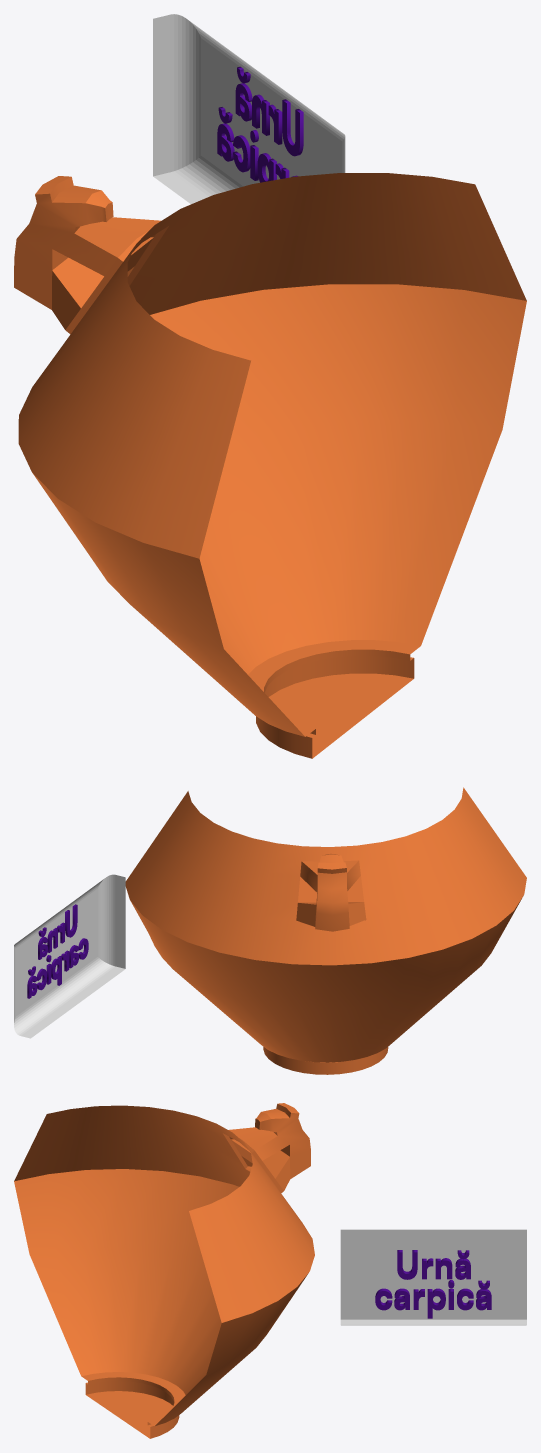
The model's file is Urna carpica.glb.
The picture shows the model from 3 angles, top to bottom: view 1: azimuth 30°, elevation 25°; view 2: azimuth 150°, elevation 25°; view 3: azimuth 270°, elevation 25°; orthographic projection. The views are drawn at different scales.
Visible parts, largest first — view 1: Oala getodaca, Cube.003, Text.003; view 2: Oala getodaca, Cube.003, Text.003; view 3: Oala getodaca, Cube.003, Text.003.
Part boxes in pixels (left/top/right/bottom): Oala getodaca: left=14, top=173, right=526, bottom=758; Cube.003: left=153, top=14, right=345, bottom=204; Text.003: left=217, top=66, right=303, bottom=182; Oala getodaca: left=125, top=787, right=526, bottom=1074; Cube.003: left=14, top=874, right=125, bottom=1038; Text.003: left=27, top=904, right=88, bottom=998; Oala getodaca: left=14, top=1103, right=314, bottom=1438; Cube.003: left=340, top=1229, right=526, bottom=1325; Text.003: left=375, top=1250, right=491, bottom=1318.
Bounding box in the file's own units: 3.31 × 2.65 × 4.65.
